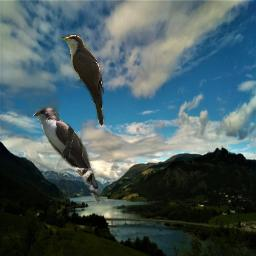Cuckoo: (33, 107, 107, 205), (60, 34, 106, 127)
